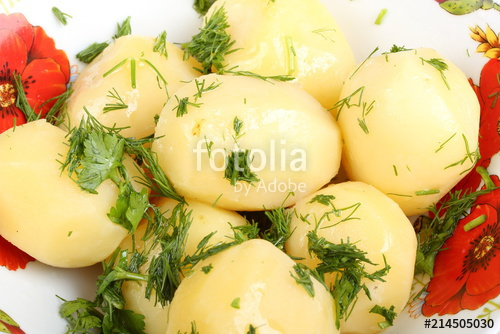boiled potatoes: (149, 71, 348, 215), (349, 46, 492, 222), (285, 176, 429, 334), (3, 117, 145, 271), (170, 232, 335, 334), (68, 31, 197, 157)
